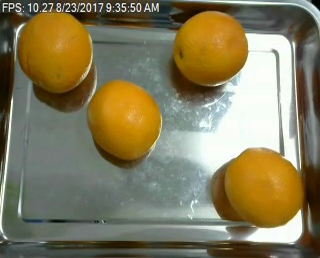Orange: (224, 147, 306, 227), (16, 8, 93, 92), (87, 79, 161, 160), (172, 10, 249, 85)
